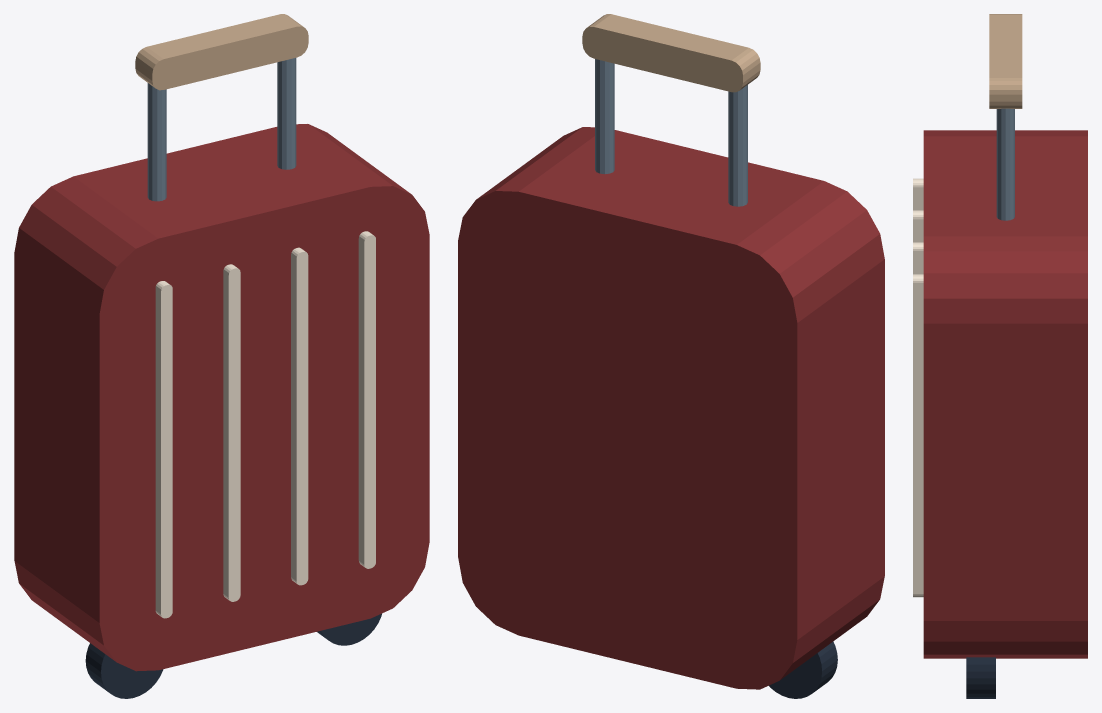
File: suitcase.glb
The picture shows the model from 3 angles, left to right: view 1: azimuth 30°, elevation 25°; view 2: azimuth 150°, elevation 25°; view 3: azimuth 270°, elevation 25°; orthographic projection. The views are drawn at different scales.
Visible parts, largest first — view 1: hard shell, handle grip, rib 1, rib 0, rib 2, rib 3, telescopic -0.22, telescopic 0.22, caster -0.37, caster 0.37; view 2: hard shell, handle grip, telescopic -0.22, telescopic 0.22, caster -0.37; view 3: hard shell, rib 3, handle grip, telescopic 0.22, caster 0.37, rib 0, rib 1, rib 2.
Boxes of the visible parts, x1,y1,x2,y2 form: hard shell: (14, 124, 429, 671); handle grip: (135, 14, 308, 90); rib 1: (223, 264, 240, 601); rib 0: (155, 281, 172, 618); rib 2: (291, 247, 308, 585); rib 3: (358, 231, 375, 568); telescopic -0.22: (147, 83, 166, 201); telescopic 0.22: (277, 58, 296, 169); caster -0.37: (85, 643, 163, 698); caster 0.37: (317, 613, 381, 645); hard shell: (458, 127, 884, 689); handle grip: (582, 14, 760, 92); telescopic -0.22: (728, 85, 747, 206); telescopic 0.22: (595, 59, 614, 174); caster -0.37: (769, 641, 837, 698); hard shell: (923, 130, 1087, 658); rib 3: (913, 274, 923, 597); handle grip: (989, 14, 1022, 108); telescopic 0.22: (996, 108, 1014, 220); caster 0.37: (966, 657, 995, 698); rib 0: (913, 178, 923, 210); rib 1: (913, 210, 923, 242); rib 2: (913, 242, 923, 274).
Size of the model in its own units: 1.12 by 2.01 by 0.5325.
